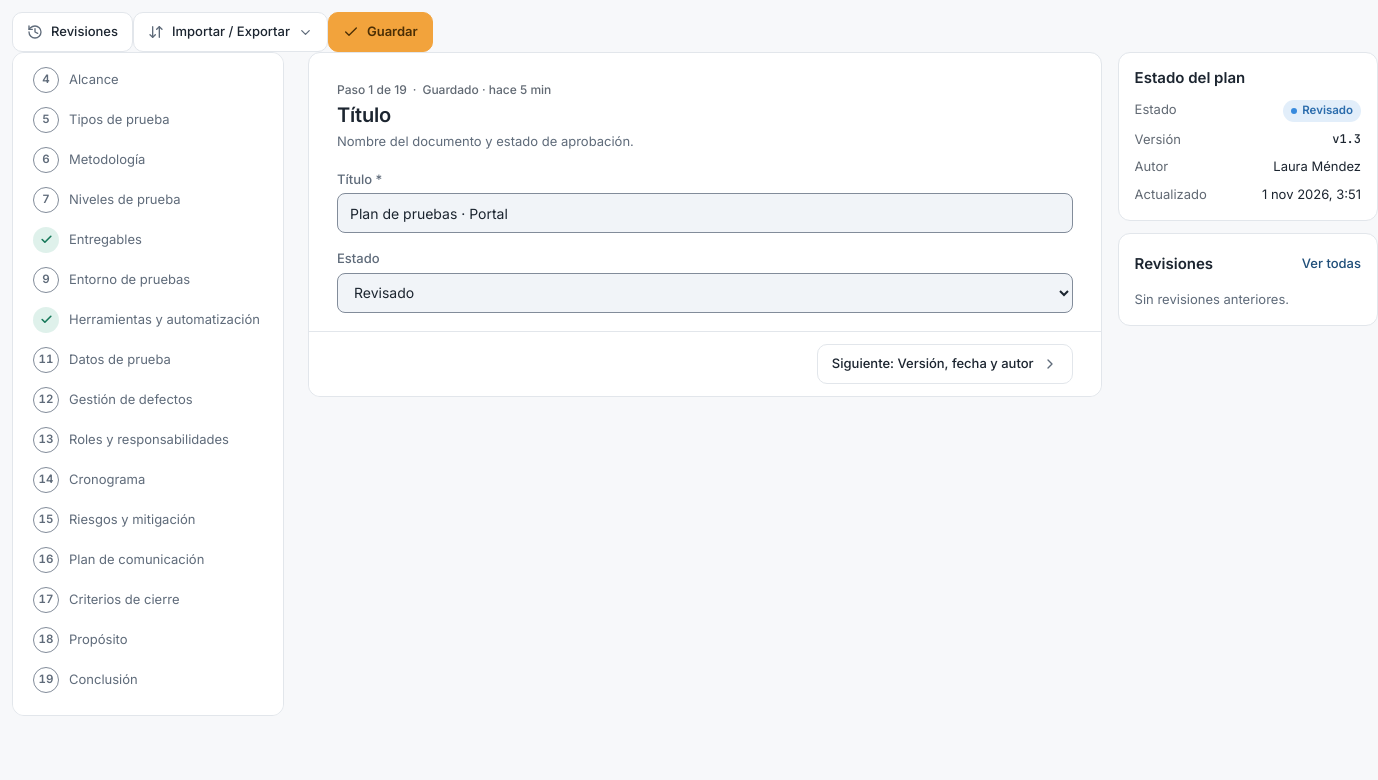
Scenario: plan wizard (SPEC §8 «Plan») › step 19 lists the missing steps and links to them
(page scrolled)
Expected: the text "Paso 1 de 19" is shown, [337,81,407,99]
Step 1. Click the button "19 Conclusión" → x=148, y=680, box [25,660,271,698]
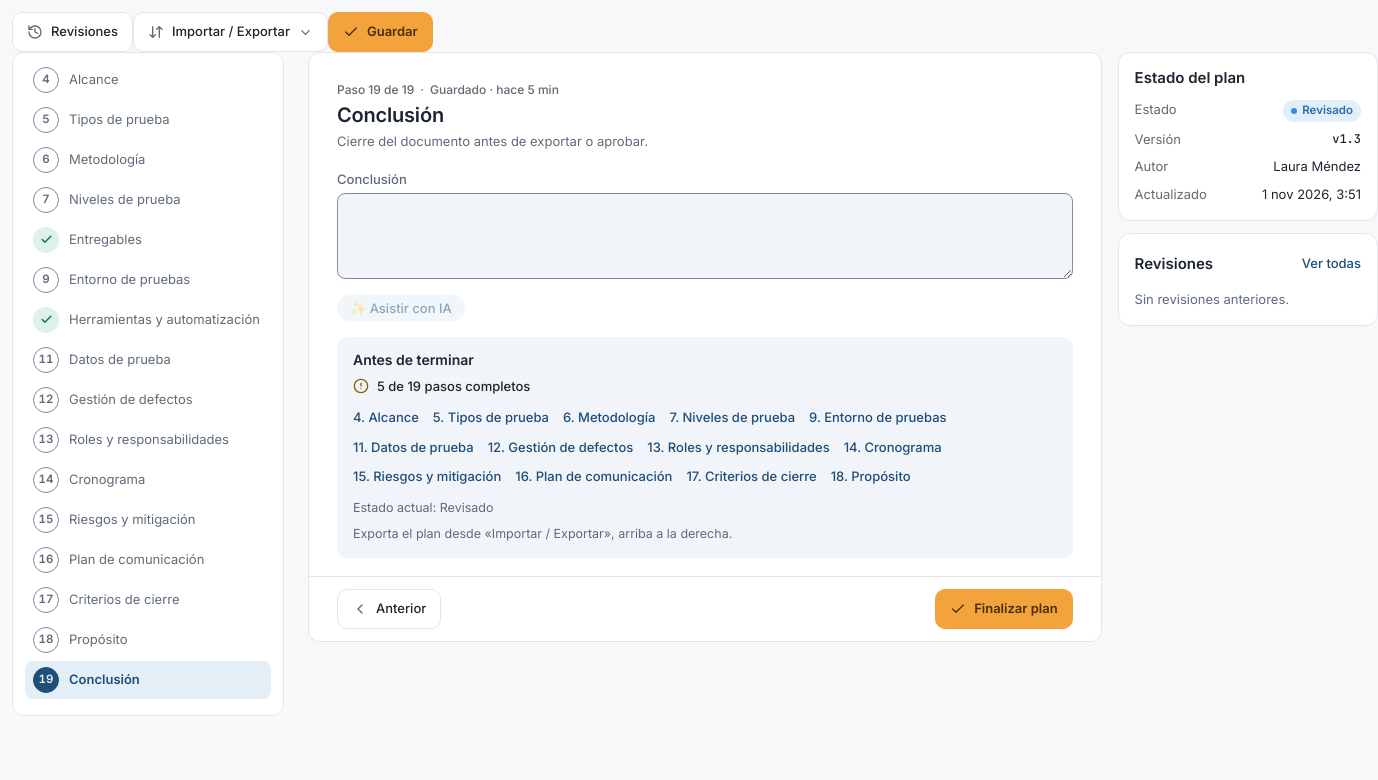
Step 2. Click the button "4. Alcance" → x=386, y=418, box [353,404,419,432]
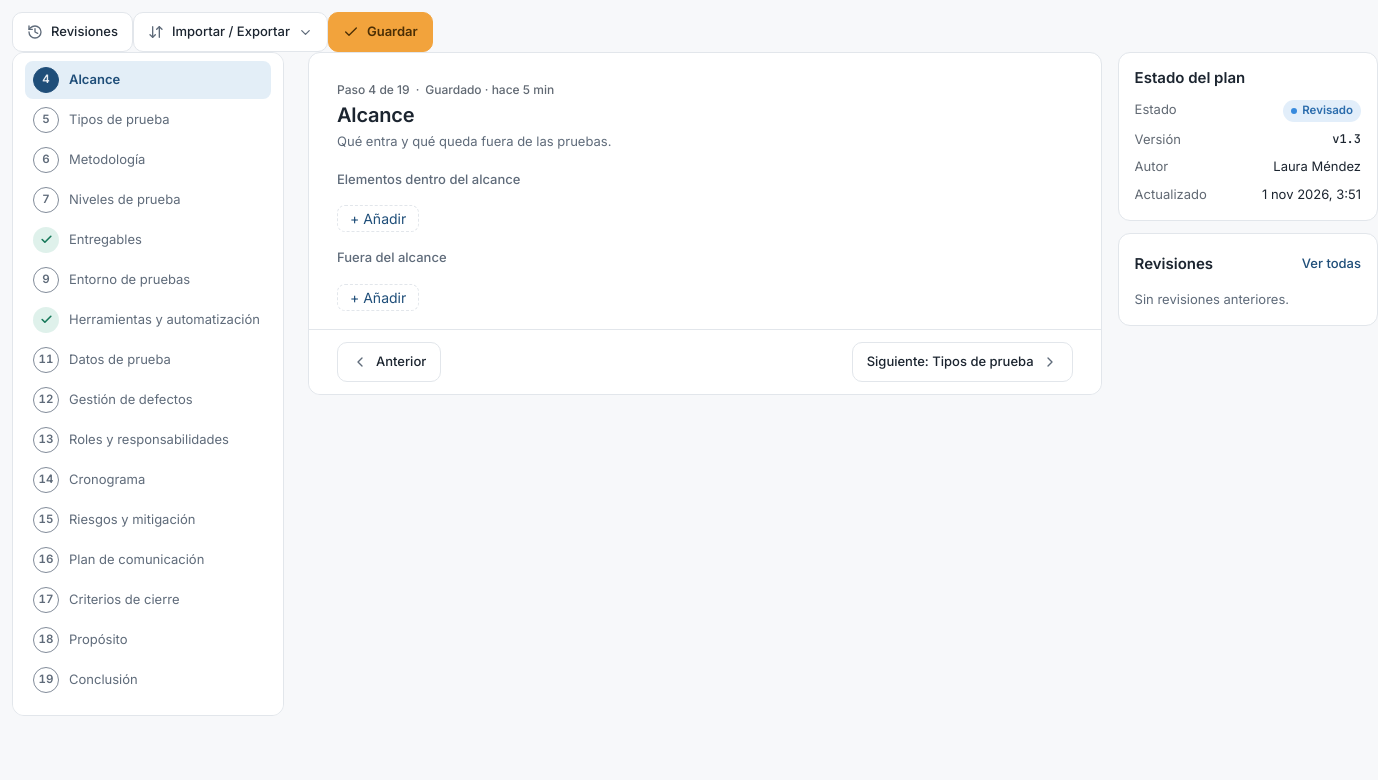
Now the heading "Alcance" is shown, box [337,103,414,127]
